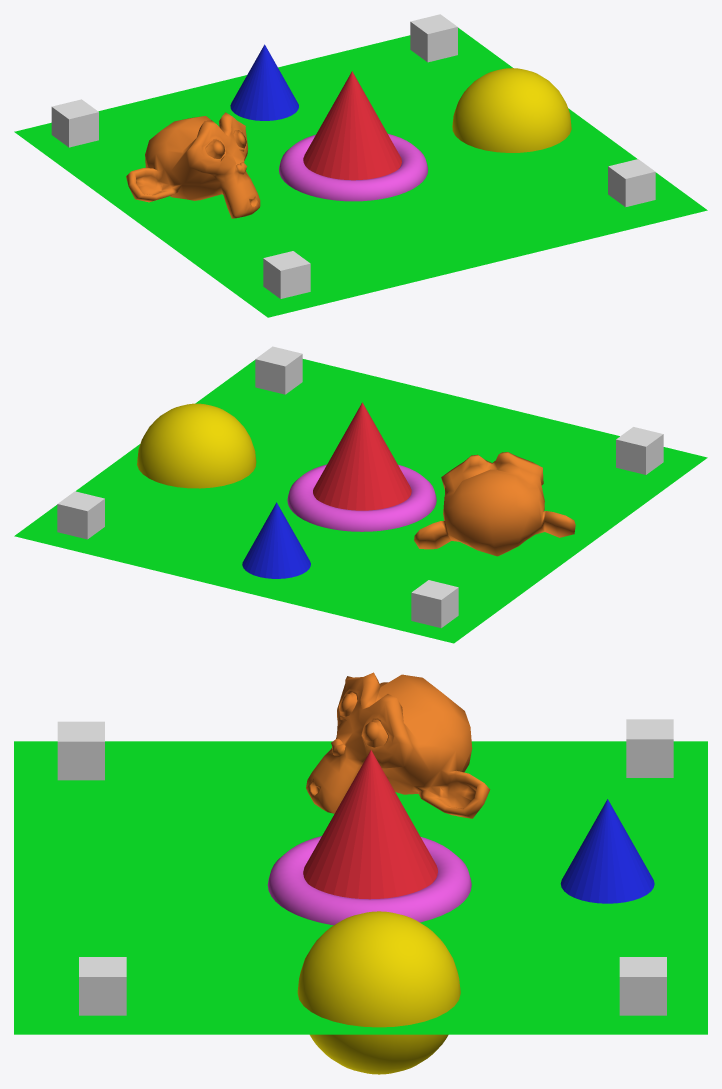
The model's file is skene1M_no_textured.glb.
3 renders of one model, top to bottom at view 1: azimuth 30°, elevation 25°; view 2: azimuth 150°, elevation 25°; view 3: azimuth 270°, elevation 25°, orthographic. The views are drawn at different scales.
Parts seen in each view (by area): view 1: Plane, Suzanne, Sphere, Cone, Torus, Cone.001, Cube.001, Cube, Cube.002, Cube.003; view 2: Plane, Suzanne, Sphere, Cone, Torus, Cone.001, Cube.002, Cube, Cube.001, Cube.003; view 3: Plane, Sphere, Suzanne, Cone, Torus, Cone.001, Cube.003, Cube, Cube.001, Cube.002.
Boxes of the visible parts, x1,y1,x2,y2 form: Plane: [14, 27, 707, 317]; Suzanne: [126, 112, 260, 218]; Sphere: [452, 68, 571, 152]; Cone: [303, 71, 401, 180]; Torus: [279, 134, 428, 201]; Cone.001: [230, 44, 298, 120]; Cube.001: [410, 14, 457, 62]; Cube: [51, 99, 98, 147]; Cube.002: [608, 159, 655, 207]; Cube.003: [263, 251, 310, 298]; Plane: [14, 359, 707, 643]; Suzanne: [414, 452, 575, 556]; Sphere: [137, 403, 256, 488]; Cone: [313, 402, 411, 510]; Torus: [287, 464, 436, 531]; Cone.001: [242, 502, 310, 578]; Cube.002: [255, 346, 302, 394]; Cube: [411, 580, 458, 628]; Cube.001: [57, 491, 104, 539]; Cube.003: [616, 427, 663, 474]; Plane: [14, 741, 707, 1034]; Sphere: [297, 911, 460, 1074]; Suzanne: [306, 672, 490, 818]; Cone: [303, 750, 437, 899]; Torus: [267, 836, 471, 925]; Cone.001: [560, 799, 654, 903]; Cube.003: [57, 721, 104, 780]; Cube: [626, 719, 673, 777]; Cube.001: [619, 957, 666, 1015]; Cube.002: [79, 957, 126, 1015].
Size of the model in its own units: 8.57 by 2.82 by 8.5.
